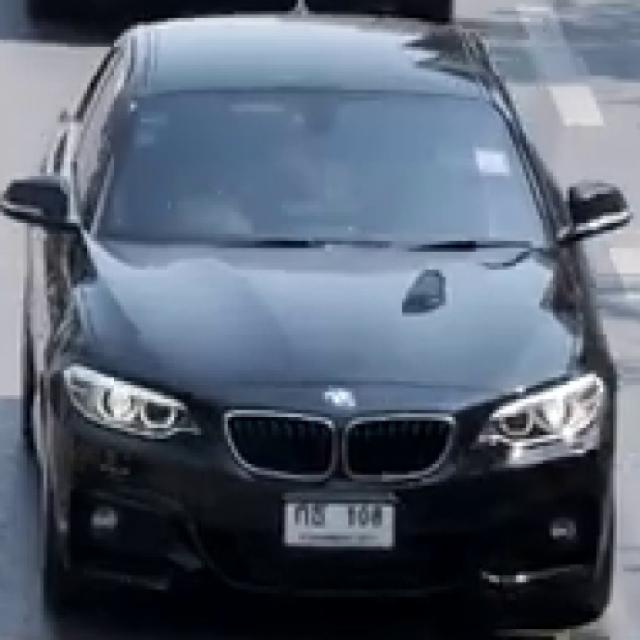plate: (283, 501, 396, 549)
